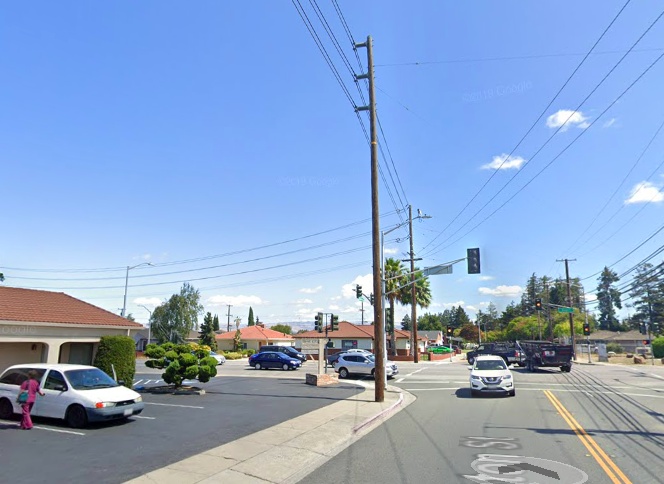utility_pole: (343, 26, 385, 131)
